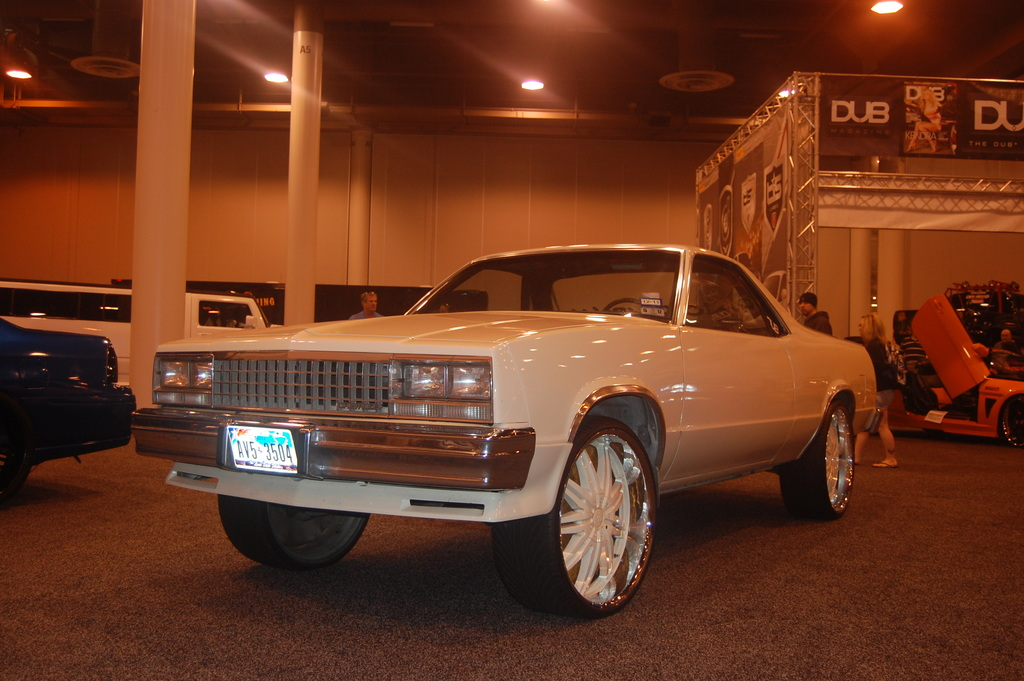Car: (129, 238, 881, 618), (0, 316, 136, 489), (892, 295, 1023, 446)
